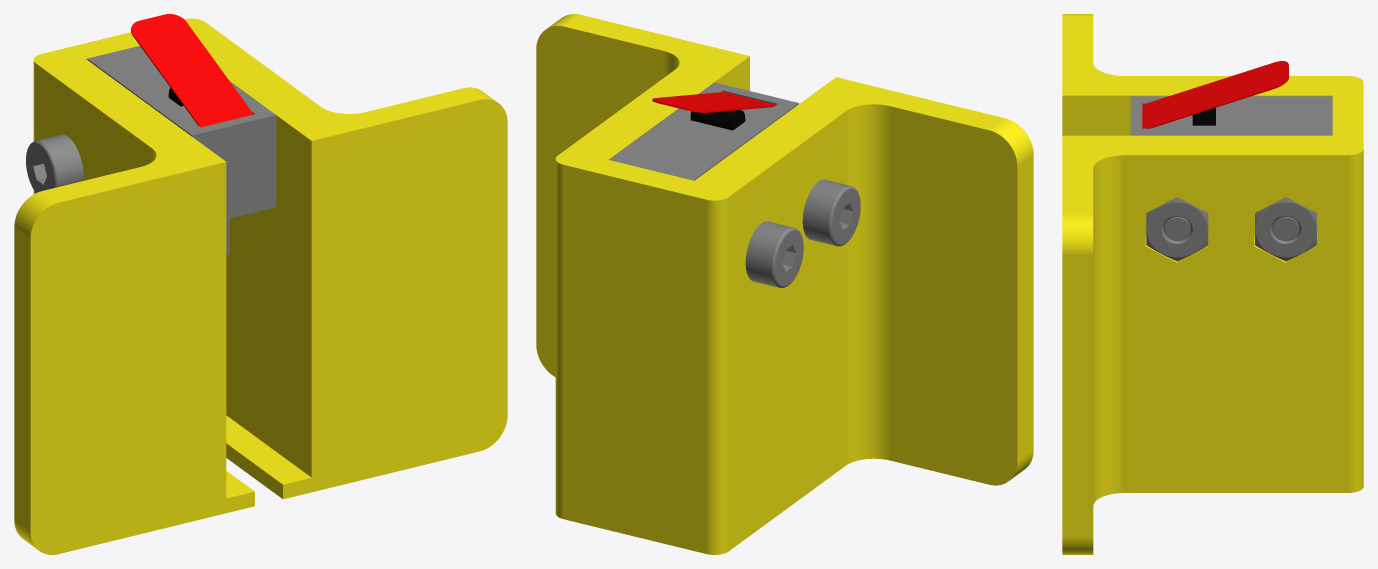
File: limitSwitchLGS.glb
3 views of the same model, side by side, from view 1: azimuth 30°, elevation 25°; view 2: azimuth 150°, elevation 25°; view 3: azimuth 270°, elevation 25° (orthographic). The views are drawn at different scales.
Visible parts, largest first — view 1: Node2, Node3, Node5, Node1; view 2: Node2, Node3, Node5, Node4; view 3: Node2, Node3, Node5.
Boxes of the visible parts, box(x1,y1,x2,y2) form: Node2: box(14, 18, 507, 554); Node3: box(26, 46, 275, 192); Node5: box(131, 14, 253, 127); Node1: box(87, 59, 276, 255); Node2: box(536, 14, 1033, 554); Node3: box(608, 82, 860, 287); Node5: box(652, 92, 776, 112); Node4: box(690, 110, 745, 130); Node2: box(1062, 14, 1363, 554); Node3: box(1130, 96, 1332, 261); Node5: box(1142, 61, 1288, 128).
Size of the model in its own units: 34.1 by 27.24 by 19.4.
